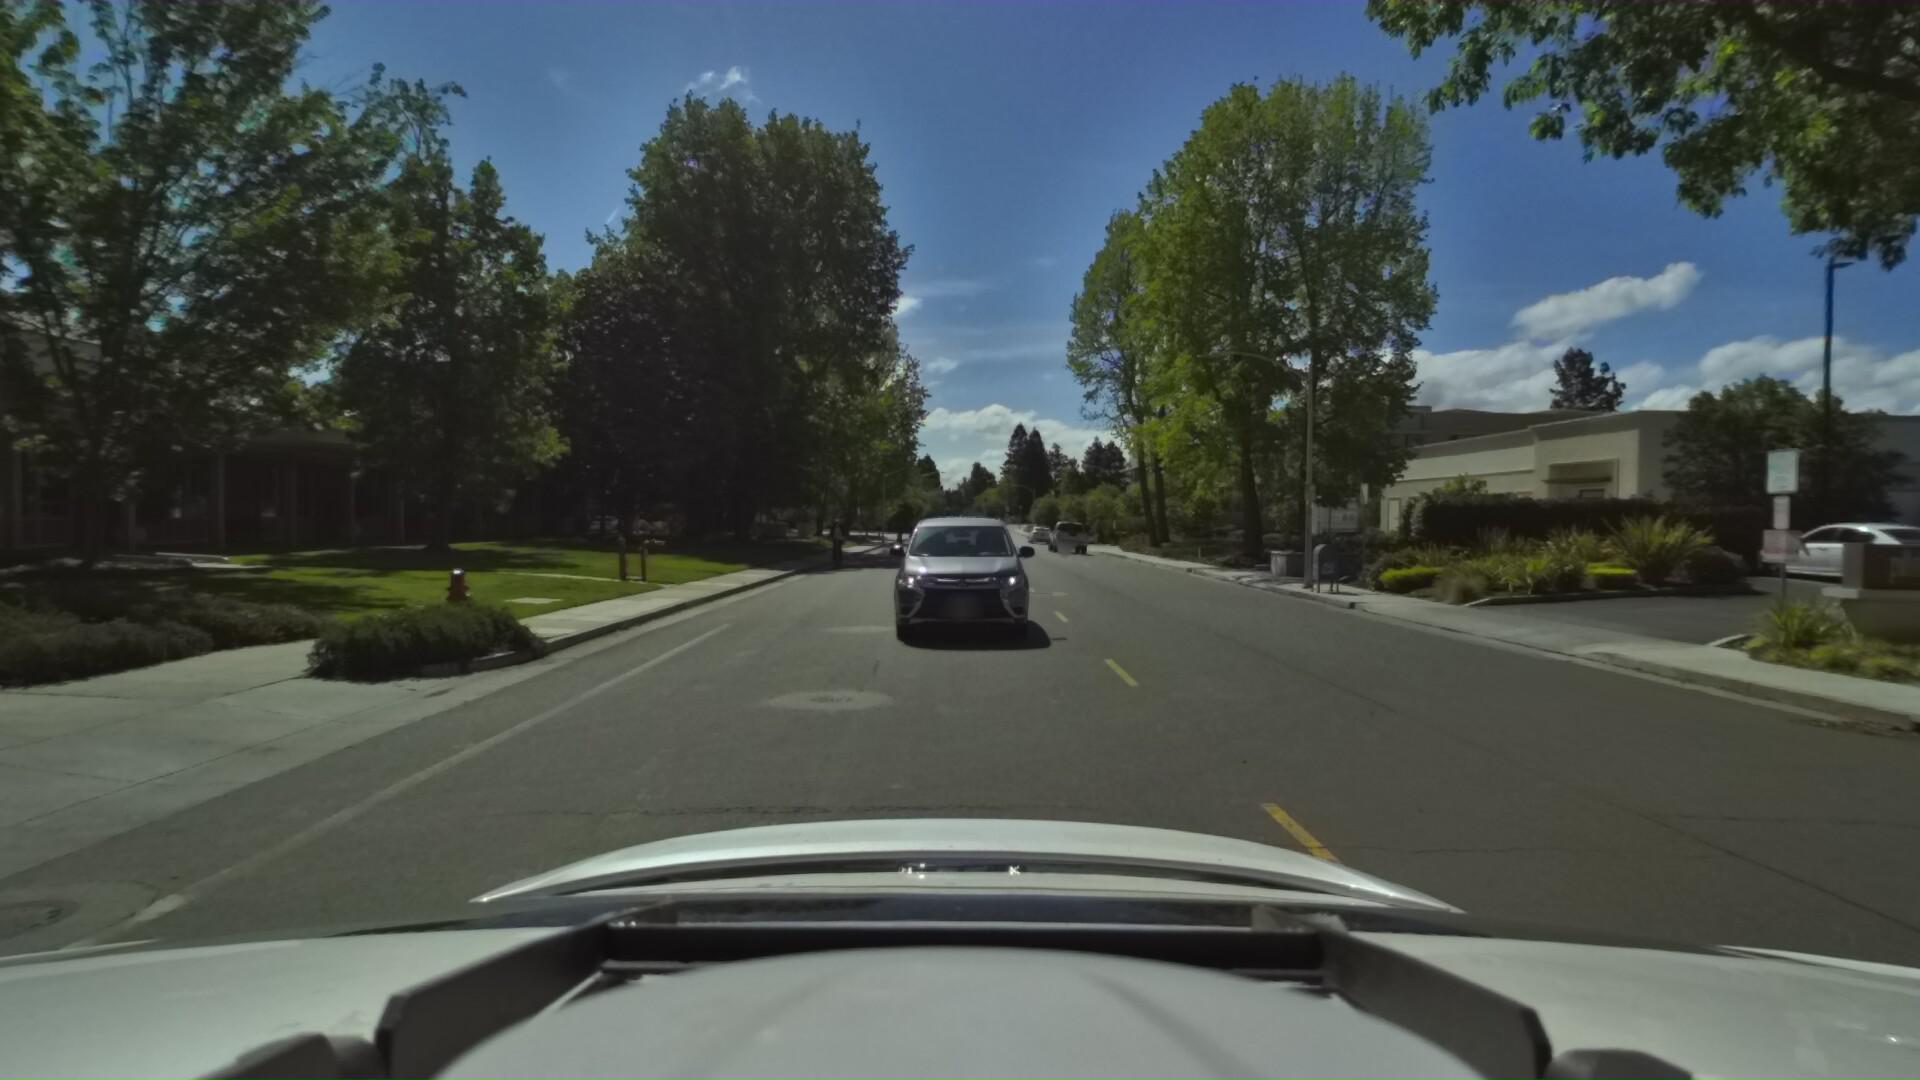bicycle: (814, 516, 847, 570), (887, 518, 902, 545)
car: (872, 508, 1039, 659), (1044, 516, 1088, 553), (1023, 520, 1050, 542)
